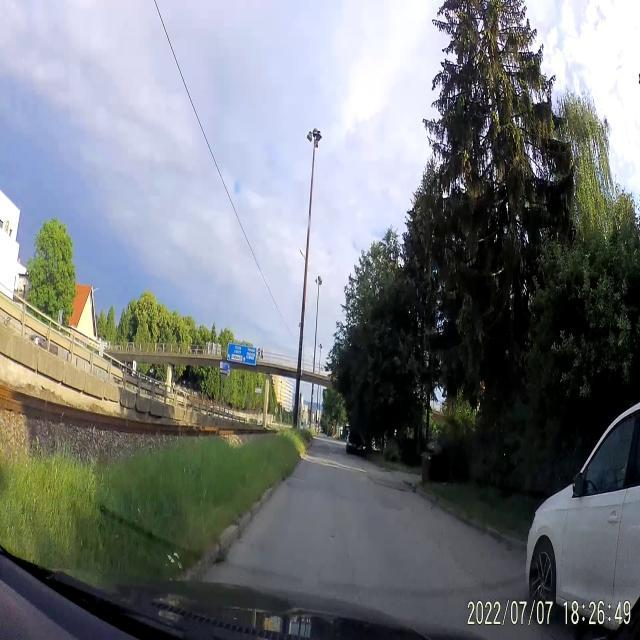Manhole: (374, 483, 405, 517)
